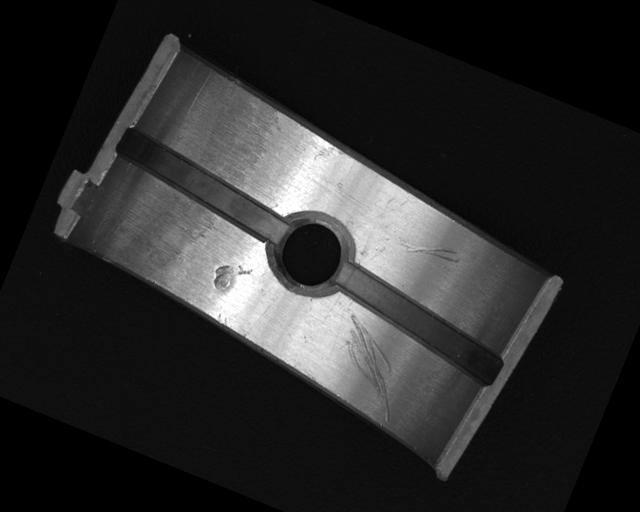bruise: (207, 256, 252, 300)
gap: (321, 260, 516, 387), (107, 125, 299, 242)
hole: (258, 199, 363, 308)
nick: (320, 312, 421, 421), (400, 229, 464, 272)
